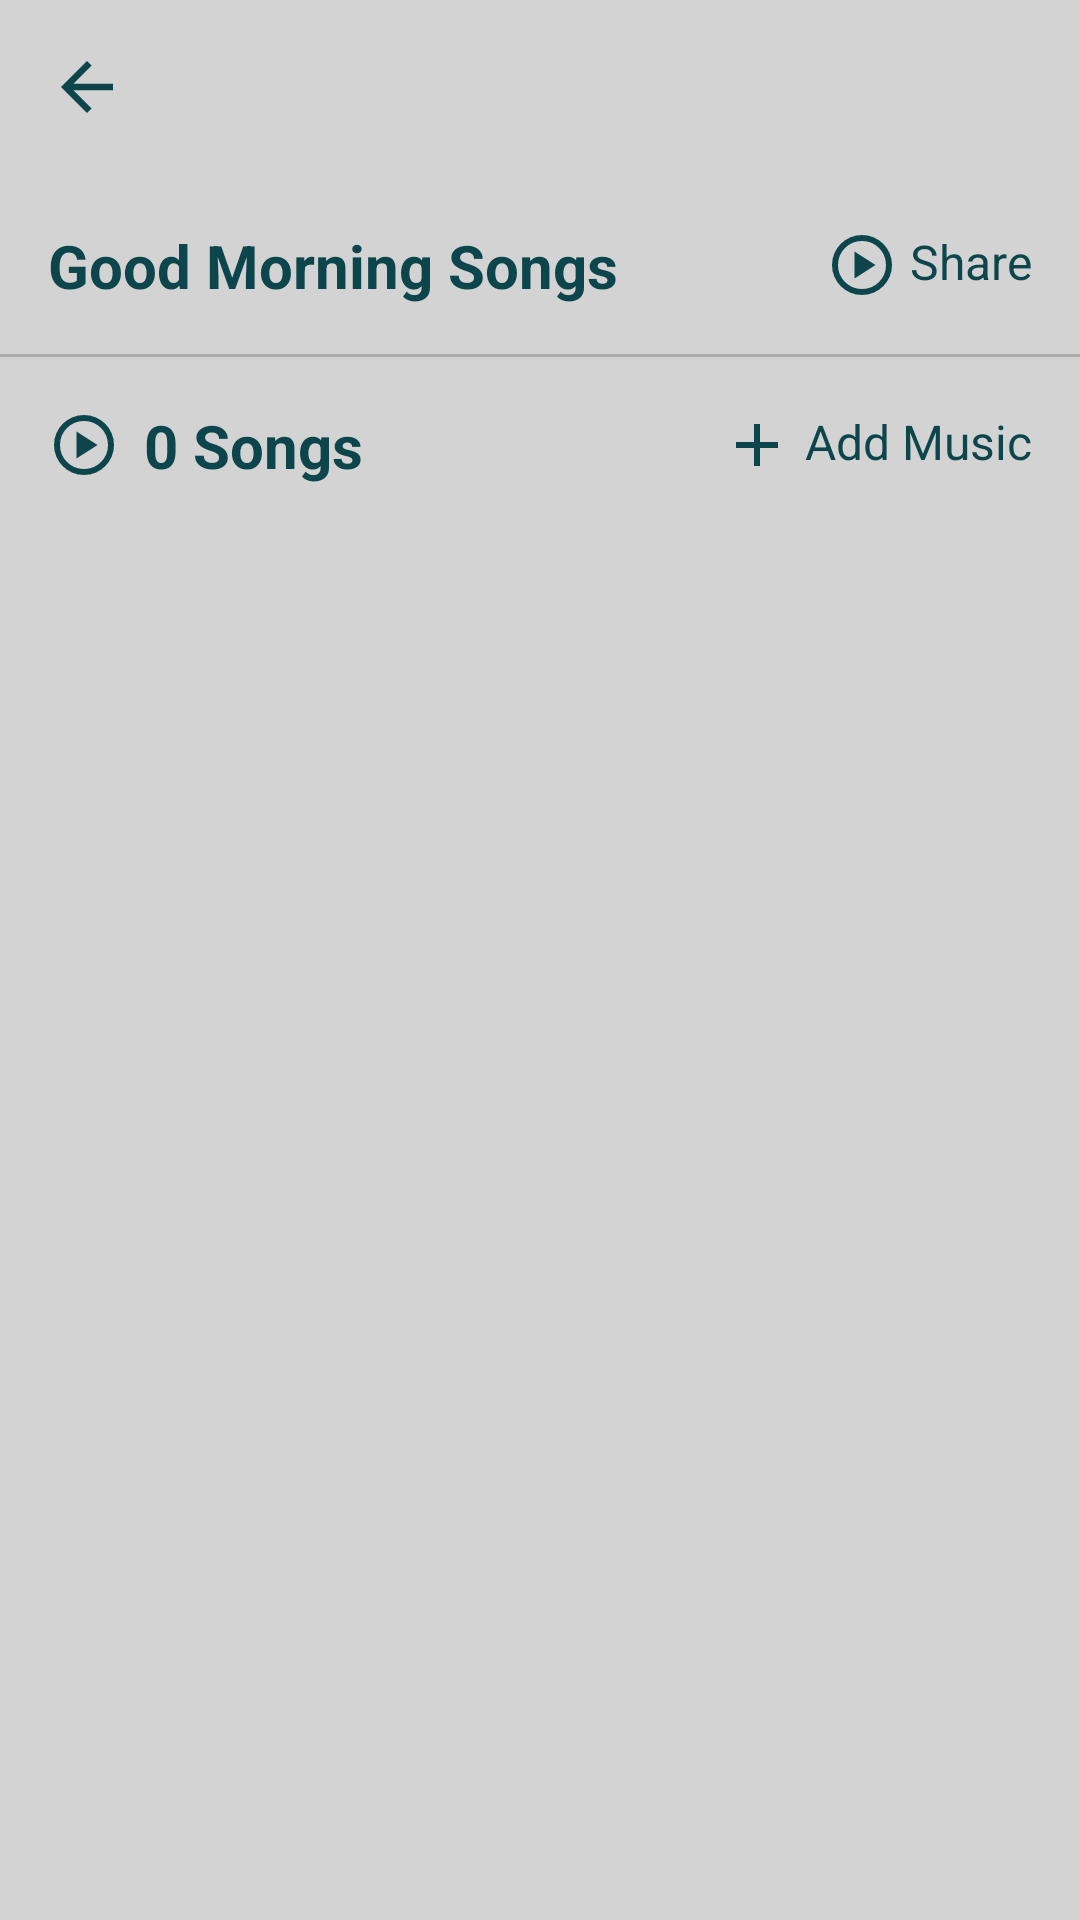

Icon bounding boxes for this 1080px x 1920px phone screenshot, format rect(x1, y1, x2, y2):
arrow back: rect(61, 61, 113, 113)
